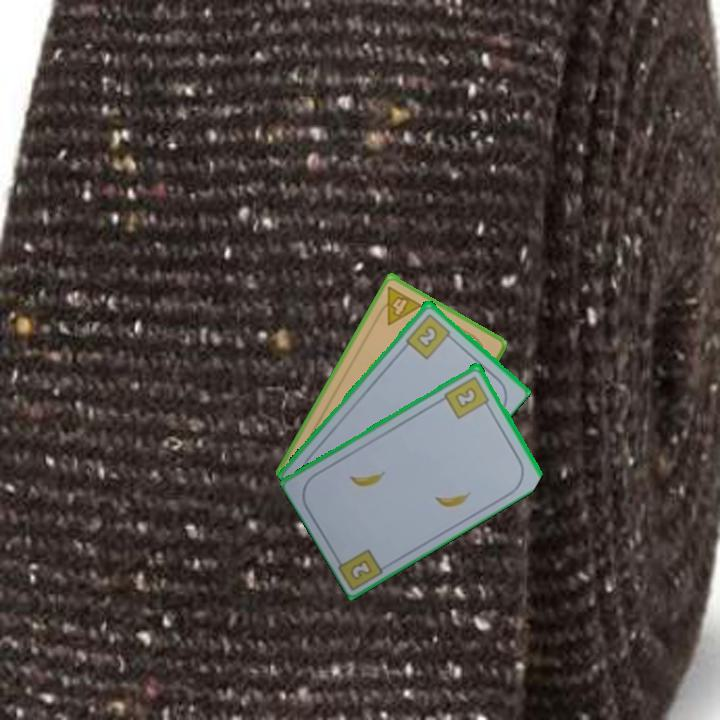2b: (402, 310, 457, 362), (441, 372, 493, 421), (346, 556, 375, 583)
4p: (373, 282, 425, 328)
